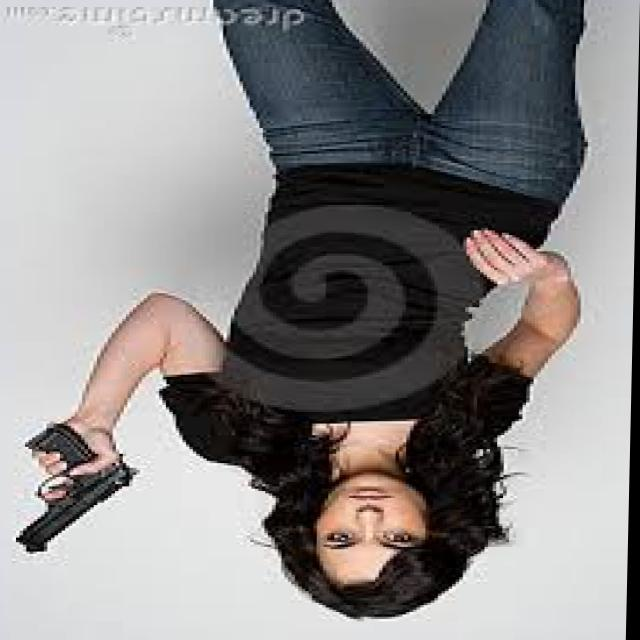handgun: (21, 428, 140, 560)
